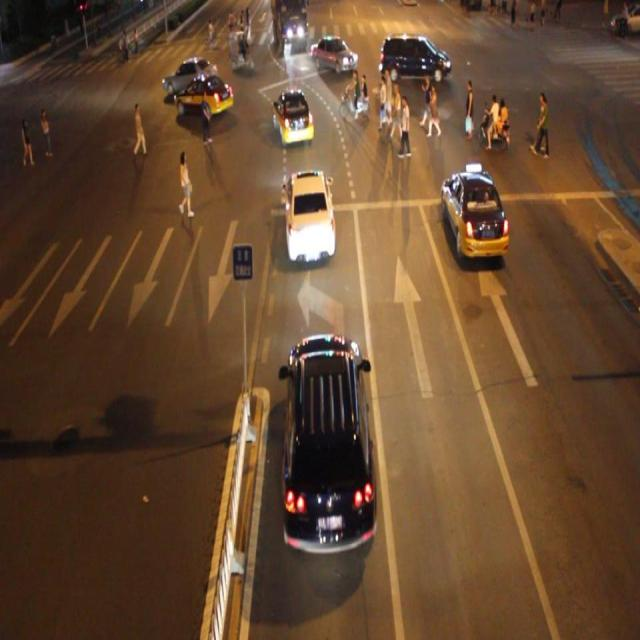bus: (271, 1, 308, 51)
car: (282, 333, 377, 554), (441, 168, 507, 260), (284, 170, 336, 263), (378, 32, 451, 85), (175, 72, 233, 120), (273, 90, 314, 146), (160, 58, 218, 96), (310, 33, 358, 75)
